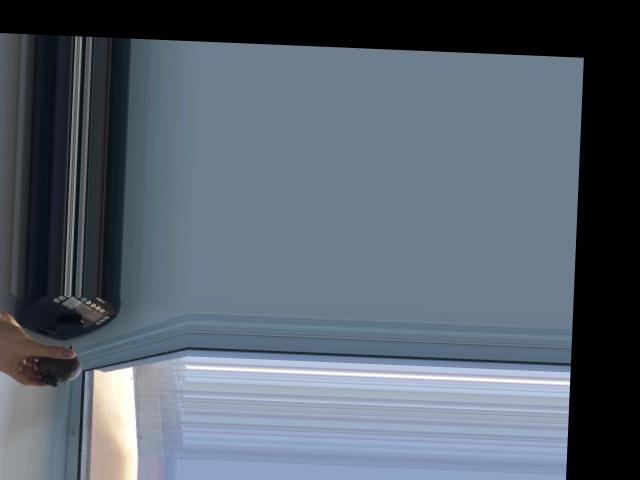beet: (32, 342, 82, 387)
